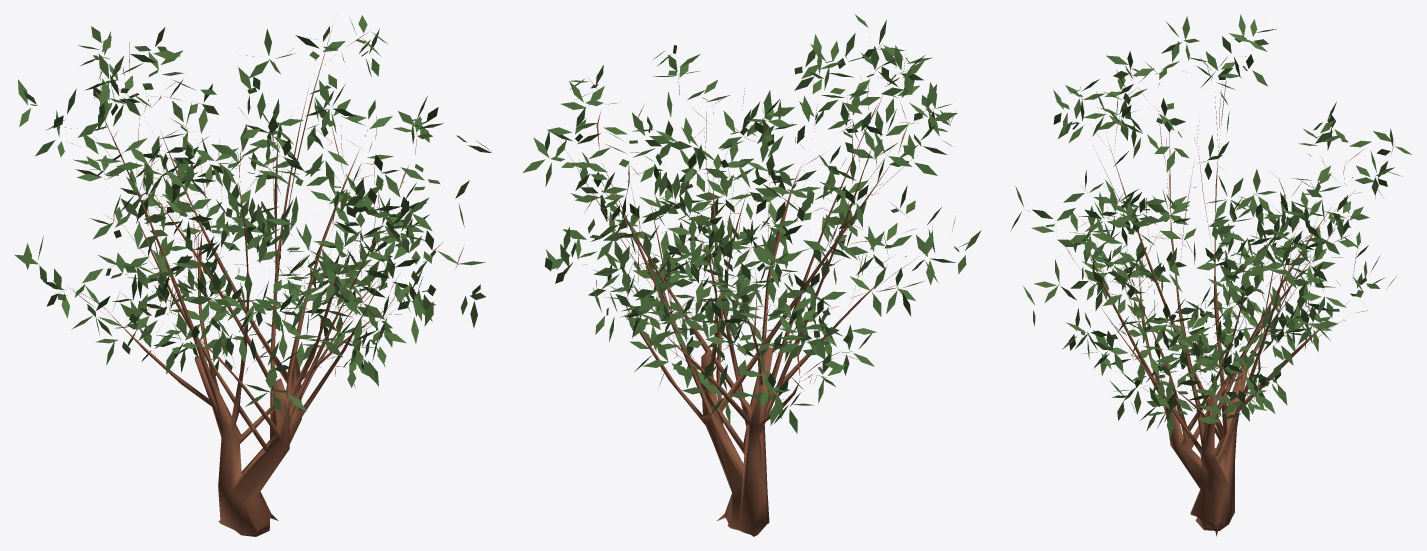
The model's file is Arbousier_1_Niveau2.fbx.
3 renders of one model, left to right at view 1: azimuth 30°, elevation 25°; view 2: azimuth 150°, elevation 25°; view 3: azimuth 270°, elevation 25°, orthographic. The views are drawn at different scales.
Parts seen in each view (by area): view 1: Arbousier_1_Niveau2; view 2: Arbousier_1_Niveau2; view 3: Arbousier_1_Niveau2.
Boxes of the visible parts, <box> form: Arbousier_1_Niveau2: <box>14,15,491,536</box>; Arbousier_1_Niveau2: <box>522,14,981,536</box>; Arbousier_1_Niveau2: <box>1011,14,1411,536</box>.
Size of the model in its own units: 299 by 350 by 281.
